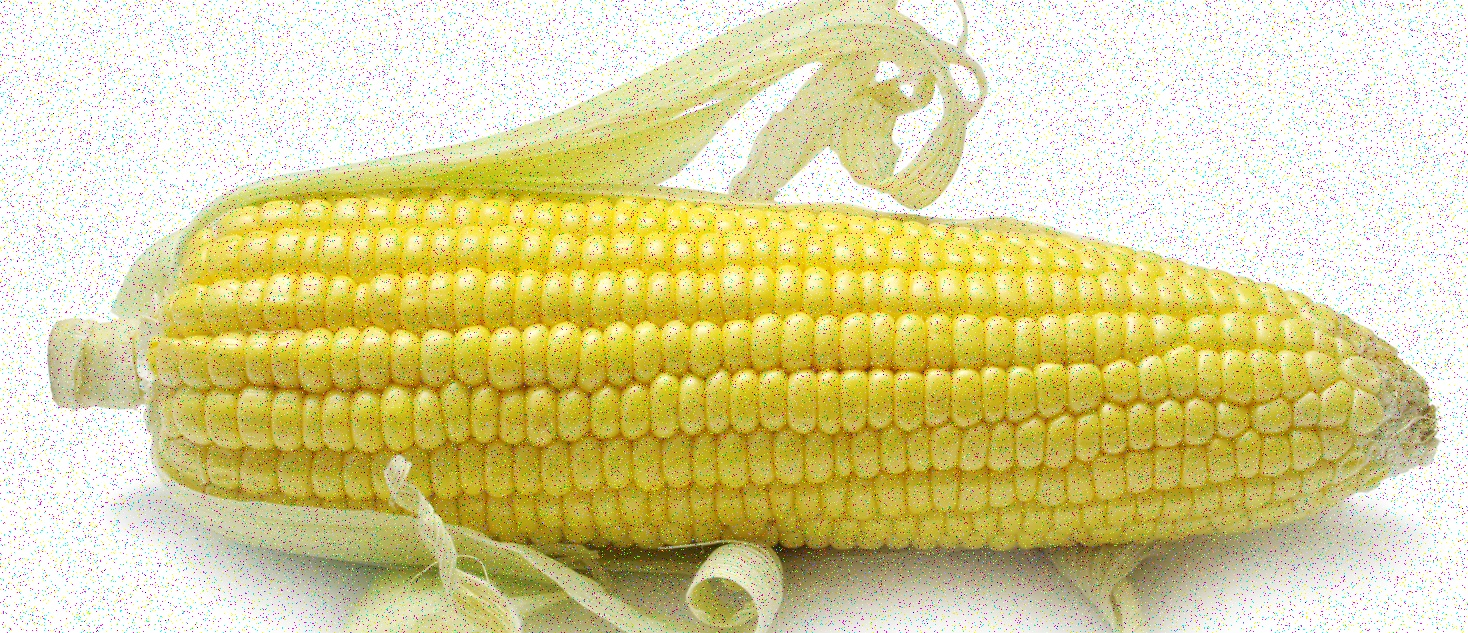corn: (45, 94, 1457, 597)
